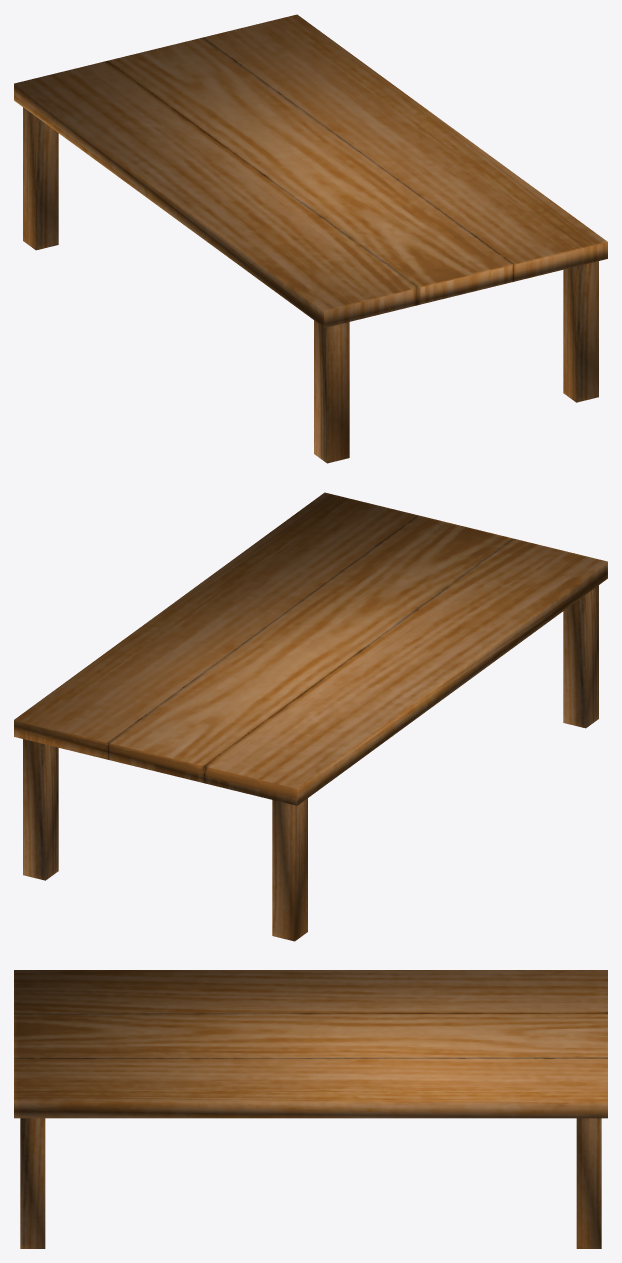
Rendered from table.fbx.
3 renders of one model, top to bottom at view 1: azimuth 30°, elevation 25°; view 2: azimuth 150°, elevation 25°; view 3: azimuth 270°, elevation 25°, orthographic. The views are drawn at different scales.
Visible parts, largest first — view 1: table; view 2: table; view 3: table.
Part boxes in pixels (<box>): table: <box>14,14,607,463</box>; table: <box>14,492,607,941</box>; table: <box>14,970,607,1248</box>.
Bounding box in the file's own units: 2 × 1.05 × 3.8.
